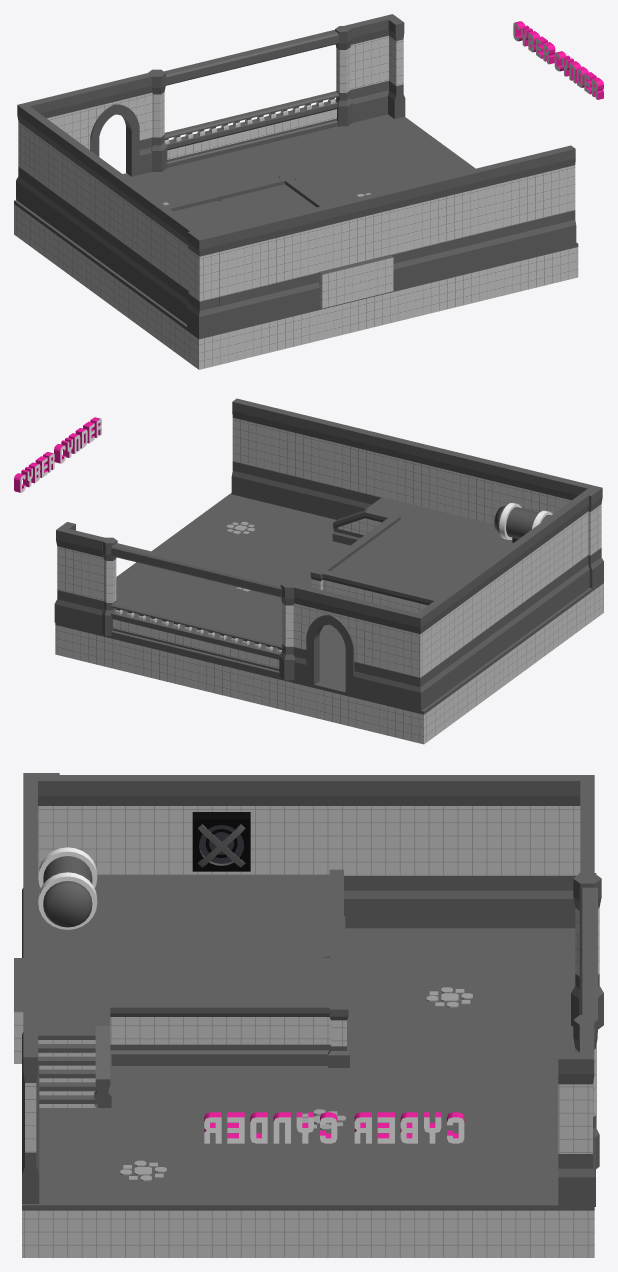
Rendered from PrototypeLevel.glb.
3 renders of one model, top to bottom at view 1: azimuth 30°, elevation 25°; view 2: azimuth 150°, elevation 25°; view 3: azimuth 270°, elevation 25°, orthographic. The views are drawn at different scales.
Visible parts, largest first — view 1: wall (×6), floor, wall_corner (×3), floor_corner_inner (×2), wall_gate, column_round (×2), arch_horizontal, barrier (×5); view 2: wall (×7), floor, floor_corner_inner (×3), wall_corner (×3), wall_gate, arch_horizontal, column_round (×2), barrier (×4), attachment_barrel, wall_diagonal; view 3: floor, wall (×4), floor_corner_inner (×3), wall_corner (×2), stairs, attachment_barrel, detail_ventLarge, column_round (×2), arch_horizontal, wall_diagonal, column, wall_gate.
Part boxes in pixels (x1,y1,x2,y2): wall (×6): (28, 19, 576, 330); floor: (14, 114, 578, 369); wall_corner (×3): (16, 14, 405, 335); floor_corner_inner (×2): (174, 184, 393, 308); wall_gate: (70, 73, 154, 176); column_round (×2): (148, 26, 352, 171); arch_horizontal: (164, 30, 338, 85); barrier (×5): (164, 91, 339, 146); wall (×7): (77, 398, 598, 706); floor: (55, 493, 603, 744); floor_corner_inner (×3): (331, 498, 512, 597); wall_corner (×3): (54, 483, 603, 711); wall_gate: (291, 584, 373, 698); arch_horizontal: (111, 543, 281, 597); column_round (×2): (101, 537, 298, 680); barrier (×4): (111, 602, 253, 649); attachment_barrel: (494, 503, 552, 542); wall_diagonal: (332, 509, 368, 545); floor: (22, 928, 594, 1257); wall (×4): (22, 775, 558, 1203); floor_corner_inner (×3): (14, 874, 329, 1063); wall_corner (×2): (558, 775, 595, 1206); stairs: (38, 1031, 97, 1107); attachment_barrel: (38, 847, 97, 929); detail_ventLarge: (192, 812, 250, 871); column_round (×2): (571, 873, 603, 1168); arch_horizontal: (579, 887, 597, 1032); wall_diagonal: (94, 1026, 111, 1107); column: (328, 1001, 349, 1067); wall_gate: (579, 814, 596, 873).
Bounding box in the file's own units: 14.33 × 3.9 × 10.2.
86 materials, 27 textured.
